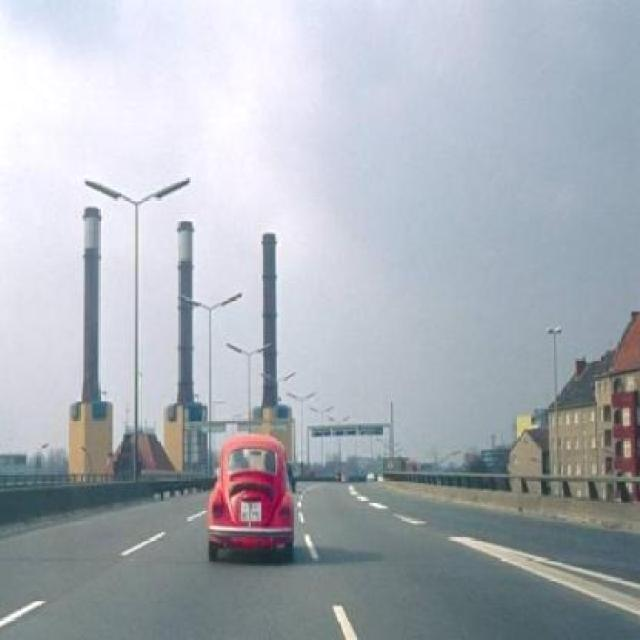car: (211, 432, 294, 555)
